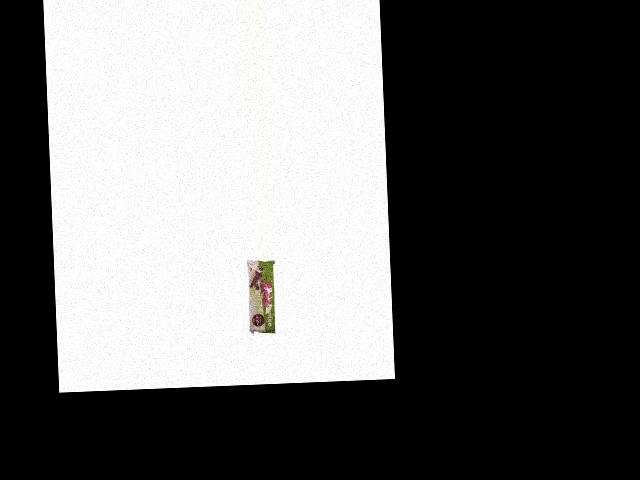chocolate: (243, 259, 277, 337)
